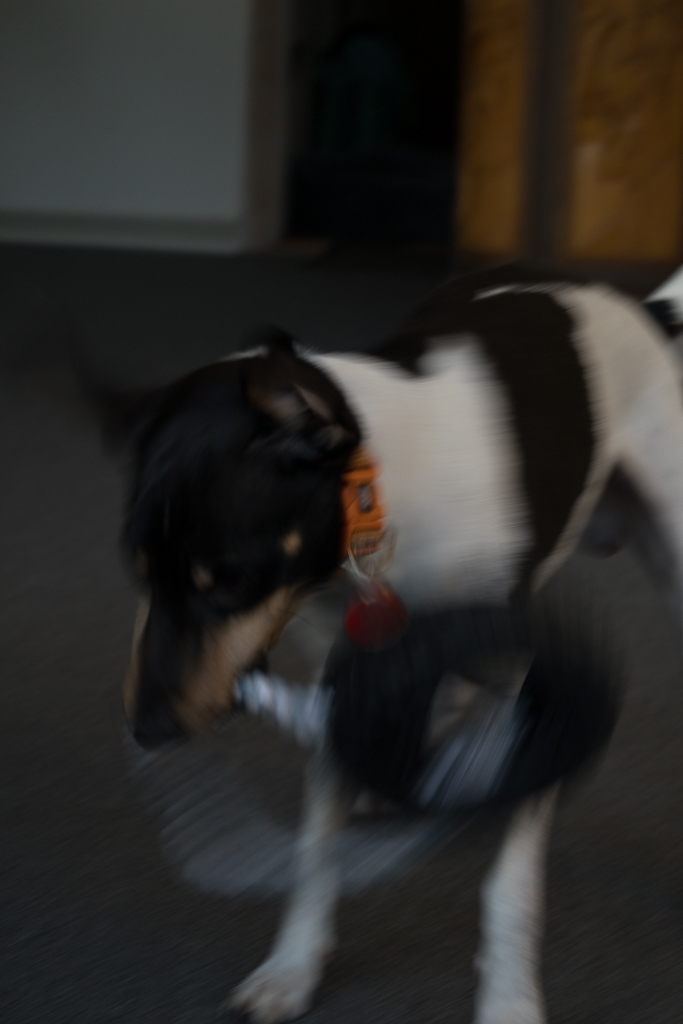Dog: (49, 252, 683, 1024)
